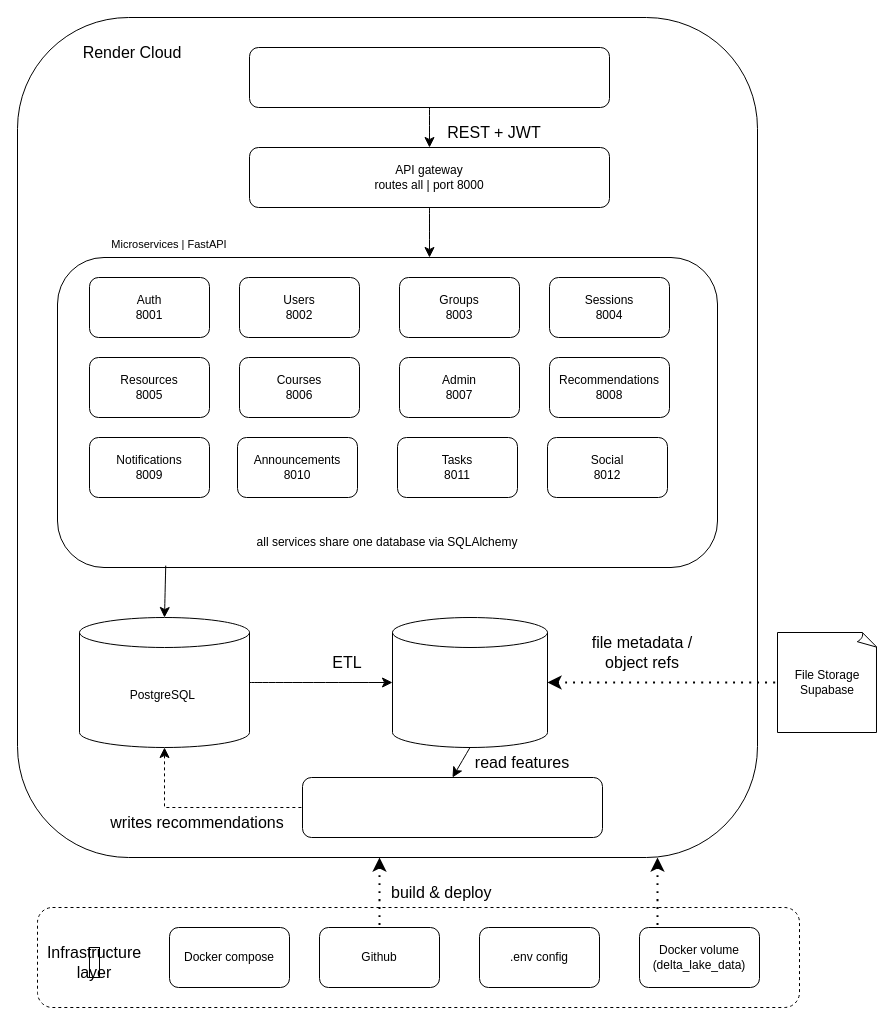
Image size: 895x1025. Some labels were removed from this diagram. Here are the shapes that lost their labels. From the top down, the centre of each, then its label:
At (x=429, y=77): "Frontend (Next.js | port 3000)".
At (x=470, y=682): "Delta Lake".
At (x=452, y=807): "ETL + recommender".
